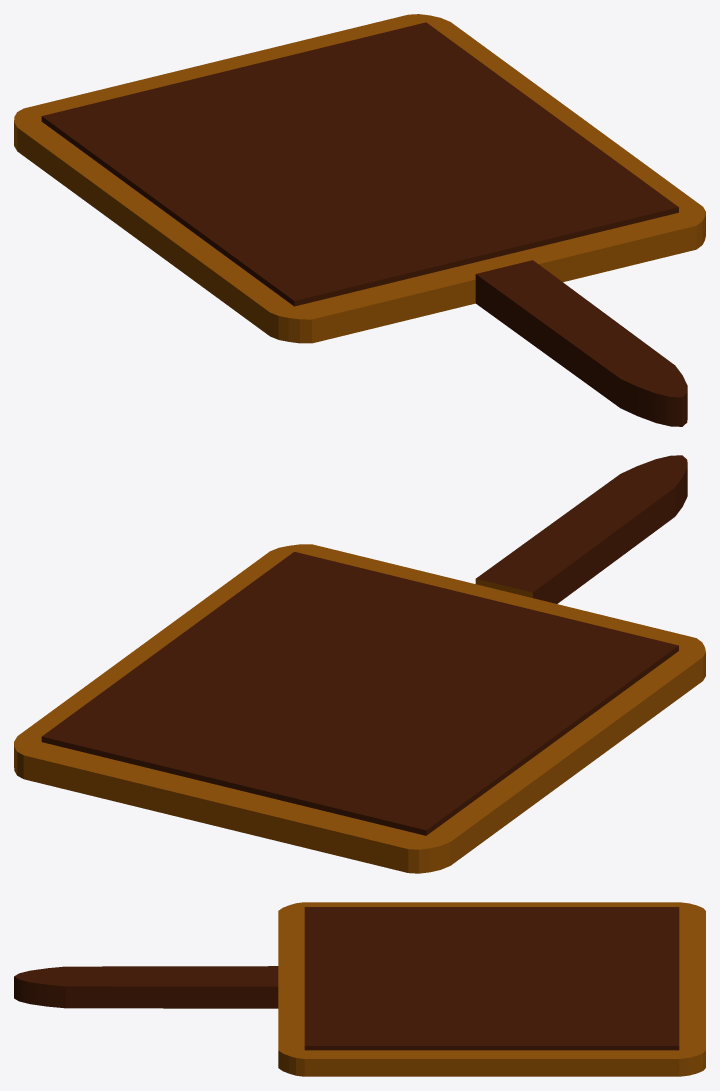
File: peel.fbx
The picture shows the model from 3 angles, top to bottom: view 1: azimuth 30°, elevation 25°; view 2: azimuth 150°, elevation 25°; view 3: azimuth 270°, elevation 25°; orthographic projection. The views are drawn at different scales.
Parts seen in each view (by area): view 1: pCube3; view 2: pCube3; view 3: pCube3.
Boxes of the visible parts, <box> form: pCube3: <box>14,14,705,426</box>; pCube3: <box>14,455,705,873</box>; pCube3: <box>14,902,705,1076</box>.
Bounding box in the file's own units: 5.47 × 0.3565 × 10.21.
